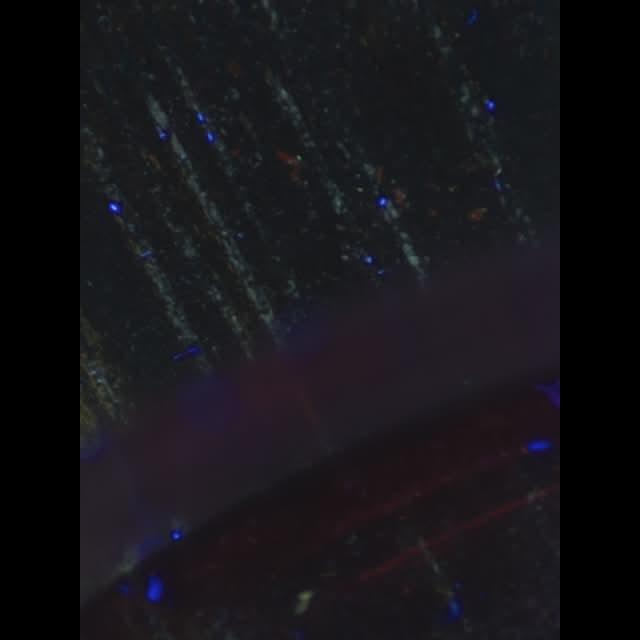microbeads: (296, 588, 312, 616)
